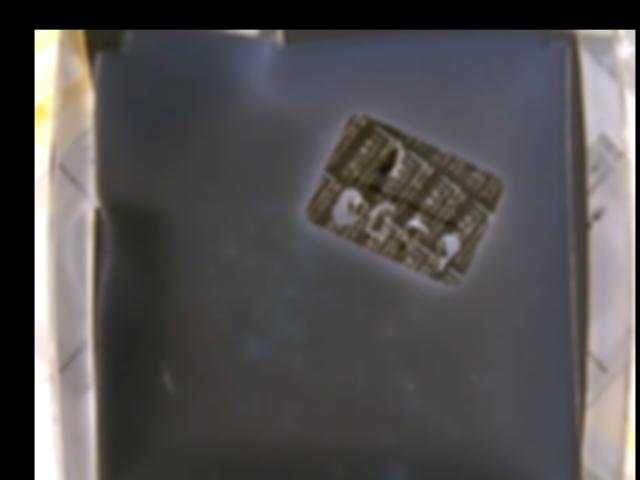Medicine: (304, 110, 503, 287)
